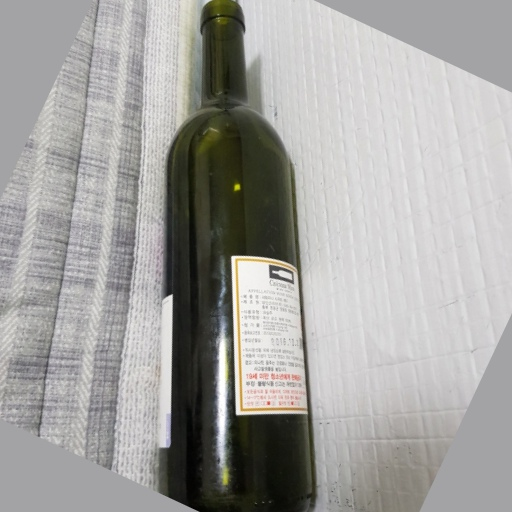Glass_2: (151, 1, 323, 512)
